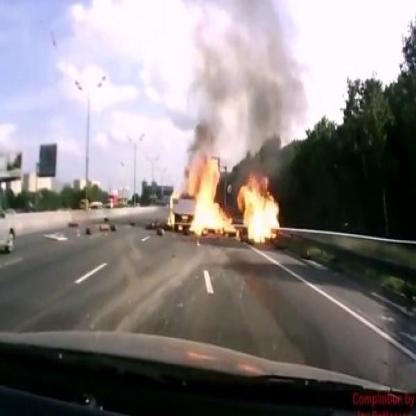fire: (165, 142, 279, 244)
